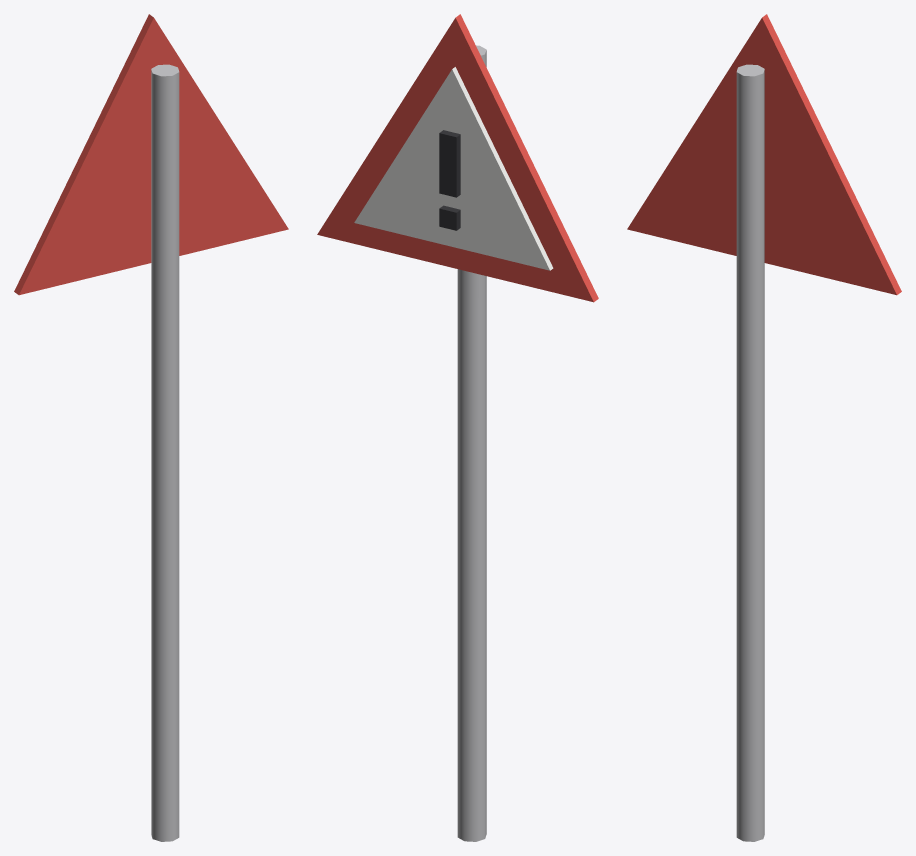
Rendered from sign_warning.glb.
The picture shows the model from 3 angles, left to right: view 1: azimuth 30°, elevation 25°; view 2: azimuth 150°, elevation 25°; view 3: azimuth 330°, elevation 25°; orthographic projection. The views are drawn at different scales.
Parts seen in each view (by area): view 1: sign_warning; view 2: sign_warning; view 3: sign_warning.
Boxes of the visible parts, box(x1,y1,x2,y2) form: sign_warning: box(14, 14, 288, 841); sign_warning: box(317, 14, 598, 841); sign_warning: box(627, 14, 901, 841).
Bounding box in the file's own units: 0.96 × 2.75 × 0.19.
